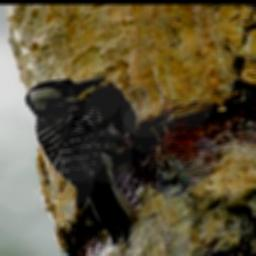Woodpecker: (23, 75, 159, 247)
